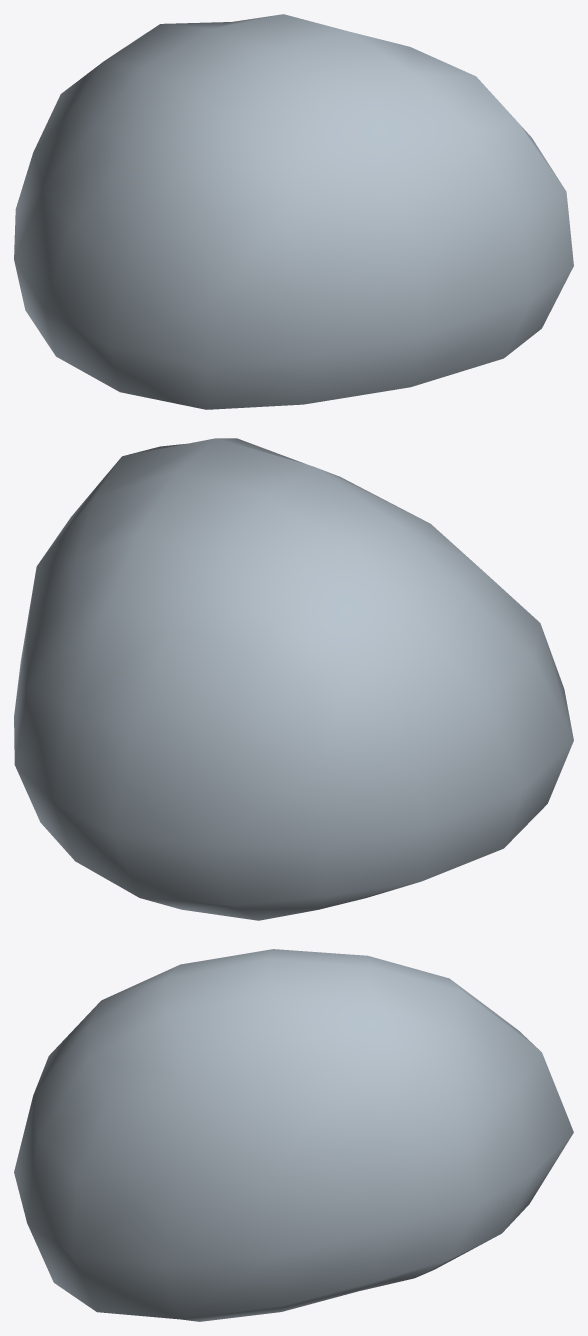
Rendered from itch_assetquest_pond_pebble_3b.glb.
3 views of the same model, one above another, from view 1: azimuth 30°, elevation 25°; view 2: azimuth 150°, elevation 25°; view 3: azimuth 270°, elevation 25° (orthographic). The views are drawn at different scales.
Parts seen in each view (by area): view 1: Pebble_3b; view 2: Pebble_3b; view 3: Pebble_3b.
Part boxes in pixels (<box>): Pebble_3b: <box>14,14,573,409</box>; Pebble_3b: <box>14,438,573,920</box>; Pebble_3b: <box>14,949,573,1321</box>.
Bounding box in the file's own units: 0.3973 × 0.2557 × 0.42.
